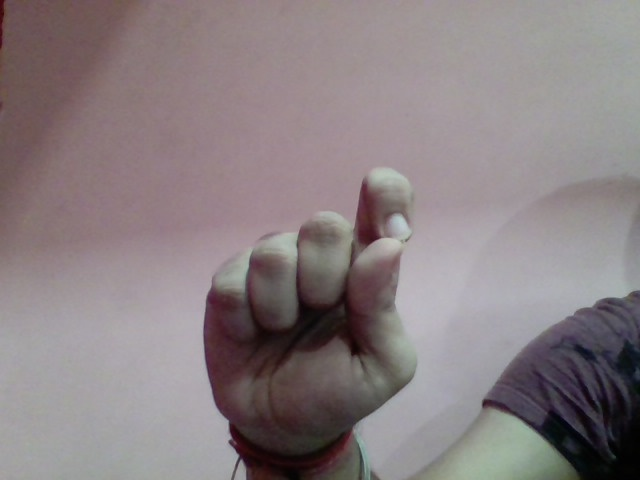t: (196, 160, 426, 433)
